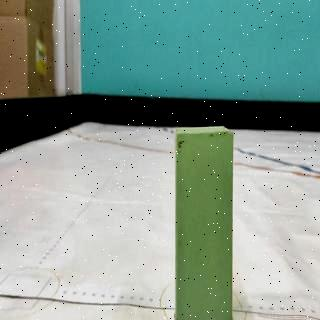greenbox: (172, 125, 234, 320)
